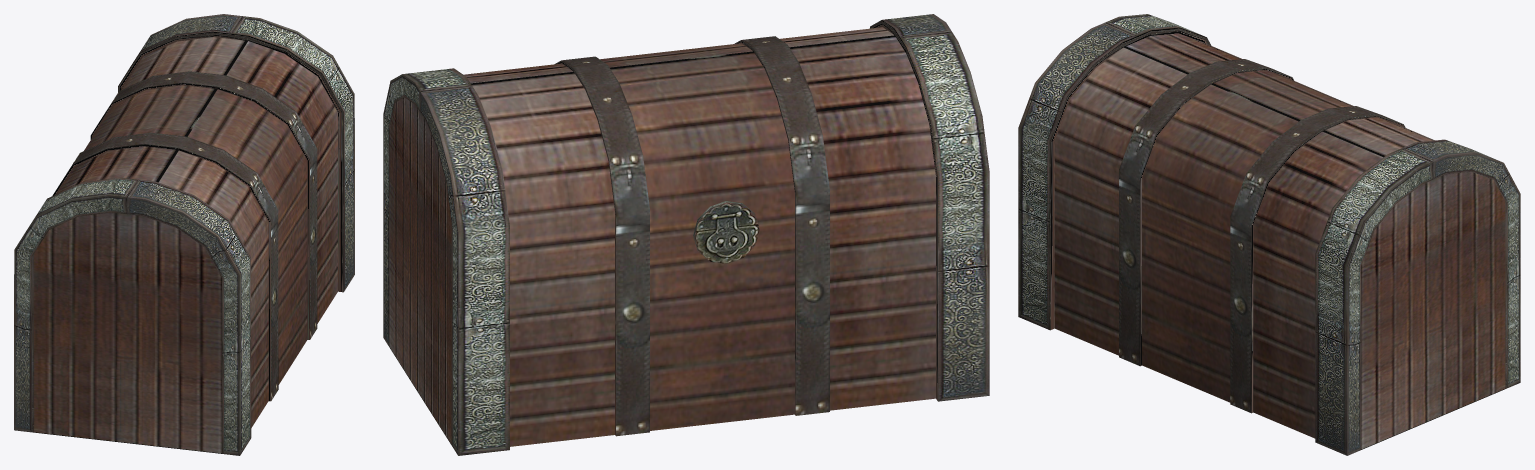
The model's file is chest1.obj.
3 views of the same model, side by side, from view 1: azimuth 30°, elevation 25°; view 2: azimuth 150°, elevation 25°; view 3: azimuth 270°, elevation 25° (orthographic). The views are drawn at different scales.
Visible parts, largest first — view 1: treasure_chest; view 2: treasure_chest; view 3: treasure_chest.
Boxes of the visible parts, bbox=[...] form: treasure_chest: bbox=[14, 14, 354, 455]; treasure_chest: bbox=[383, 14, 989, 455]; treasure_chest: bbox=[1018, 14, 1520, 455].
Bounding box in the file's own units: 0.7276 × 0.4116 × 0.7276.
Materials: 1 (1 with a texture image).
